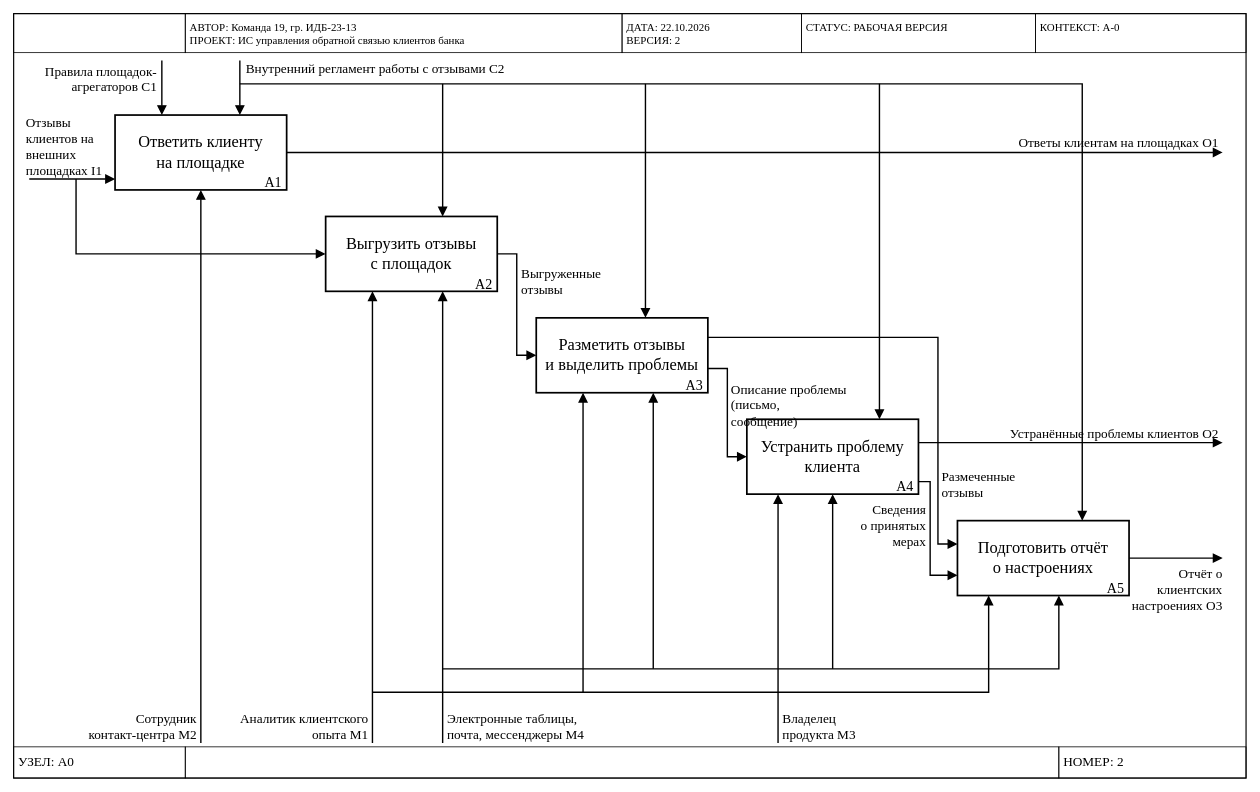
Image size: 1260x792. Some labels were removed from this diagram. The shapes that lost their labels are listed below. From the top down, each one's centre as x and y in pixels, then its label:
At (99,33): "ИСПОЛЬЗУЕТСЯ В:".
At (621,762): "НАЗВАНИЕ: Обрабатывать публичные отзывы клиентов банка".
